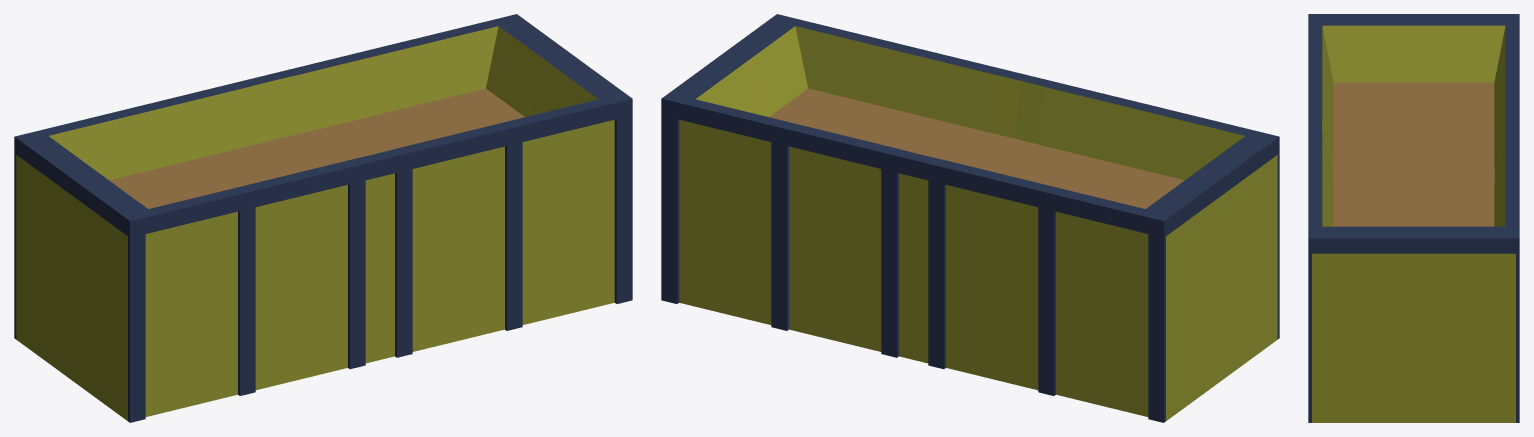
Rendered from LCargoModel03.fbx.
3 renders of one model, left to right at view 1: azimuth 30°, elevation 25°; view 2: azimuth 150°, elevation 25°; view 3: azimuth 270°, elevation 25°, orthographic. The views are drawn at different scales.
Visible parts, largest first — view 1: LCargoModel03; view 2: LCargoModel03; view 3: LCargoModel03.
Part boxes in pixels (bbox=[...]): LCargoModel03: bbox=[14, 14, 632, 422]; LCargoModel03: bbox=[661, 14, 1279, 422]; LCargoModel03: bbox=[1308, 14, 1519, 422].
Bounding box in the file's own units: 731 × 280 × 291.
